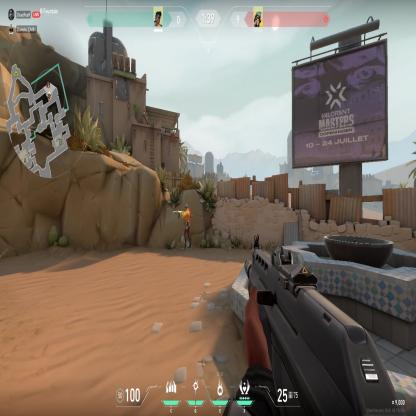enemy: (177, 201, 193, 250)
